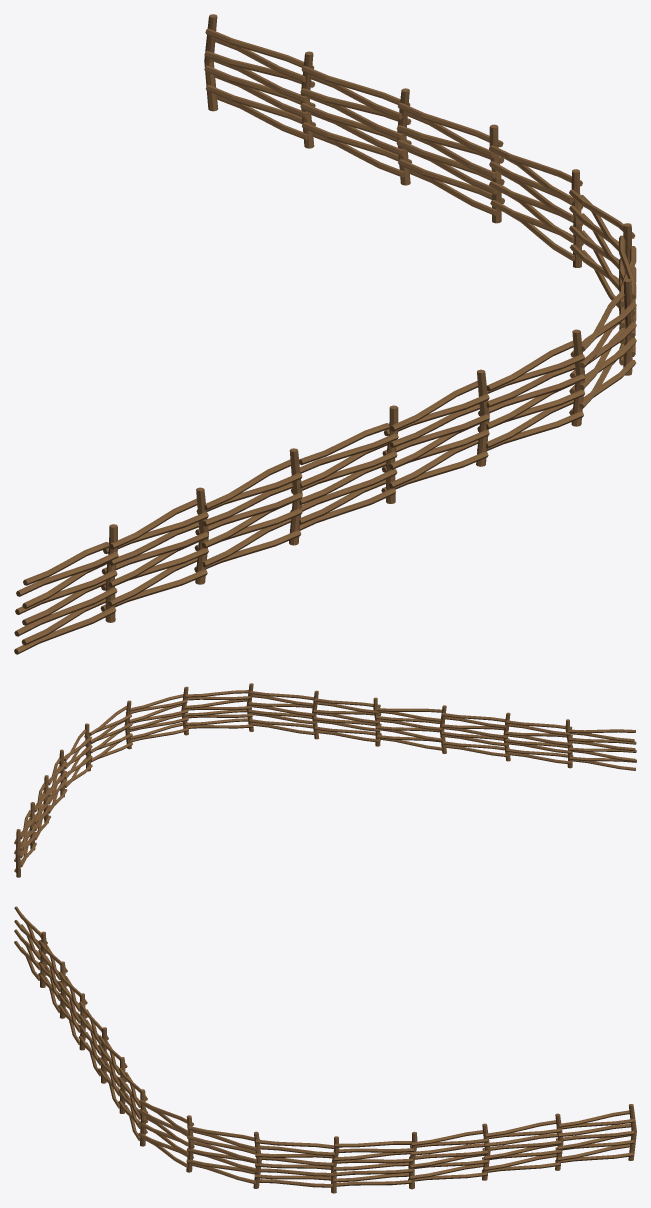
File: Fences2.gltf
The picture shows the model from 3 angles, top to bottom: view 1: azimuth 30°, elevation 25°; view 2: azimuth 150°, elevation 25°; view 3: azimuth 270°, elevation 25°; orthographic projection. The views are drawn at different scales.
Visible parts, largest first — view 1: Fence1.031, Fence2.004, Fence1.030, Fence2.005, Fence1.023, Fence1.021, Fence1.029, Fence1.020, Fence1.024, Fence2.007, Fence1.025, Fence2.006 (+1 smaller); view 2: Fence1.021, Fence1.023, Fence1.025, Fence1.024, Fence1.020, Fence2.004, Fence2.005, Fence1.026, Fence2.006, Fence2.007, Fence1.031, Fence1.029 (+1 smaller); view 3: Fence2.006, Fence2.007, Fence1.031, Fence1.029, Fence1.030, Fence1.026, Fence1.025, Fence1.024, Fence2.004, Fence1.021, Fence1.023, Fence1.020 (+1 smaller).
Part boxes in pixels (left/top/right/bottom): Fence1.031: left=204, top=14, right=315, bottom=140; Fence2.004: left=14, top=524, right=118, bottom=654; Fence1.030: left=300, top=51, right=411, bottom=177; Fence2.005: left=290, top=405, right=398, bottom=530; Fence1.023: left=381, top=369, right=489, bottom=492; Fence1.021: left=194, top=448, right=302, bottom=571; Fence1.029: left=396, top=88, right=504, bottom=215; Fence1.020: left=100, top=487, right=208, bottom=611; Fence1.024: left=477, top=329, right=585, bottom=450; Fence2.007: left=489, top=124, right=583, bottom=260; Fence1.025: left=569, top=278, right=636, bottom=415; Fence2.006: left=569, top=169, right=635, bottom=308; Fence1.021: left=439, top=705, right=509, bottom=757; Fence1.023: left=312, top=690, right=381, bottom=742; Fence1.025: left=181, top=686, right=252, bottom=735; Fence1.024: left=246, top=683, right=314, bottom=734; Fence1.020: left=503, top=712, right=573, bottom=764; Fence2.004: left=565, top=719, right=636, bottom=770; Fence2.005: left=373, top=697, right=442, bottom=750; Fence1.026: left=124, top=694, right=188, bottom=749; Fence2.006: left=84, top=705, right=132, bottom=771; Fence2.007: left=58, top=729, right=92, bottom=797; Fence1.031: left=14, top=810, right=36, bottom=877; Fence1.029: left=43, top=757, right=67, bottom=823; Fence2.006: left=254, top=1136, right=339, bottom=1193; Fence2.007: left=333, top=1131, right=417, bottom=1189; Fence1.031: left=555, top=1104, right=636, bottom=1162; Fence1.029: left=408, top=1123, right=490, bottom=1181; Fence1.030: left=482, top=1113, right=563, bottom=1172; Fence1.026: left=186, top=1126, right=261, bottom=1188; Fence1.025: left=138, top=1100, right=194, bottom=1172; Fence1.024: left=118, top=1068, right=147, bottom=1146; Fence2.004: left=14, top=906, right=47, bottom=987; Fence1.021: left=58, top=972, right=87, bottom=1050; Fence1.023: left=98, top=1035, right=127, bottom=1113; Fence1.020: left=38, top=940, right=67, bottom=1018.
Size of the model in its own units: 8.89 by 0.9508 by 9.73.
Materials: 2 (2 with a texture image).
